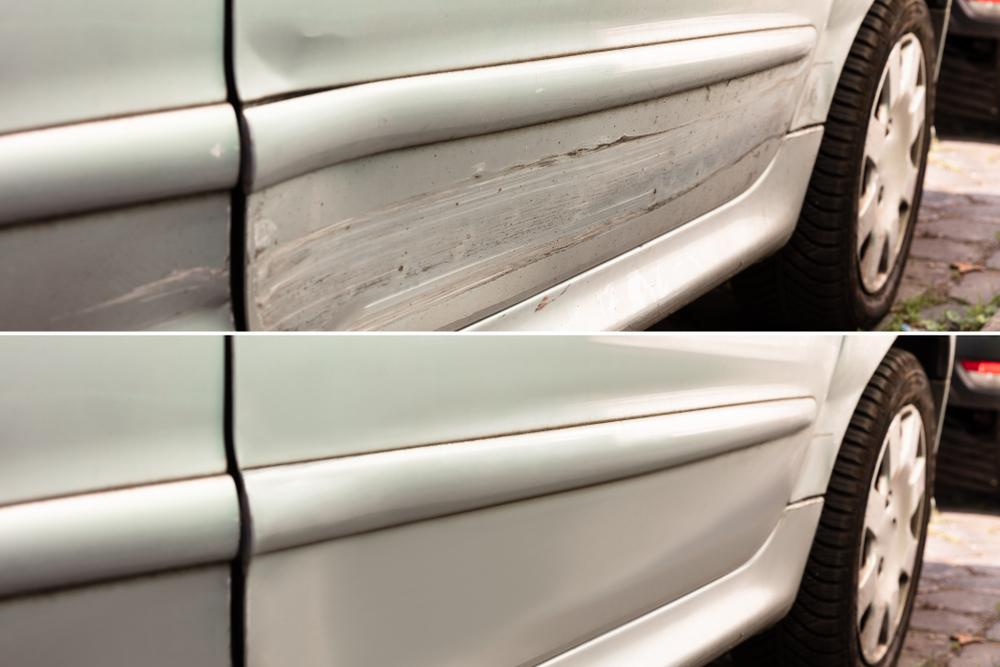dent: (233, 22, 342, 101)
scratch: (253, 95, 786, 331), (41, 248, 230, 316)
